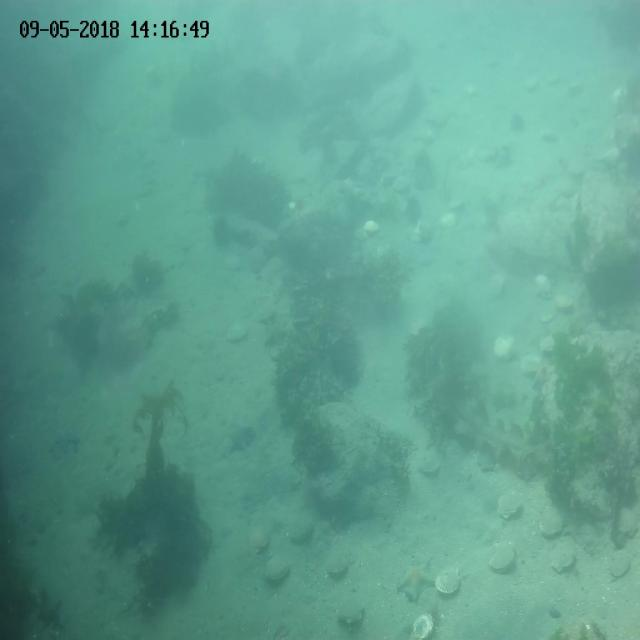scallop: (484, 540, 516, 571), (496, 491, 525, 523), (608, 546, 633, 581), (550, 538, 575, 572), (435, 566, 463, 596), (416, 447, 441, 478), (337, 597, 366, 623), (265, 553, 290, 582), (322, 551, 349, 577), (410, 611, 434, 640), (493, 330, 514, 358), (522, 350, 544, 376), (226, 318, 248, 340), (556, 292, 575, 311), (541, 334, 555, 349)
starfish: (397, 559, 435, 601)
